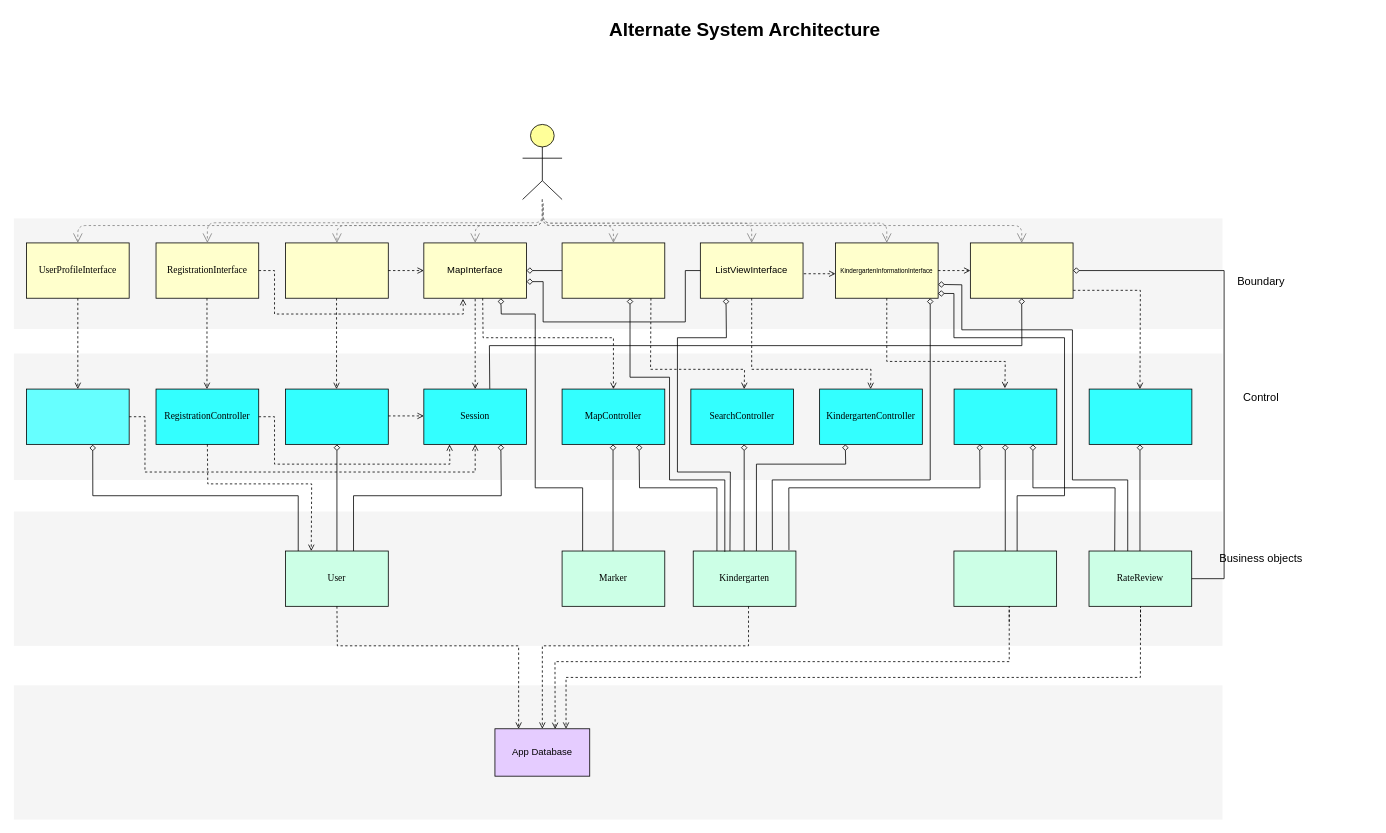
This 1386x833 diagram has some shape labels left out. Each missing label, with the centre of its shape:
"InfromationController" belongs at (1005,416).
"KindergartenServices" belongs at (1005,578).
"LoginController" belongs at (336,416).
"LoginInterface" belongs at (336,270).
"RateReviewController" belongs at (1140,416).
"RateReviewInterface" belongs at (1021,270).
"SearchInterface" belongs at (613,270).
"UserController" belongs at (77,416).
